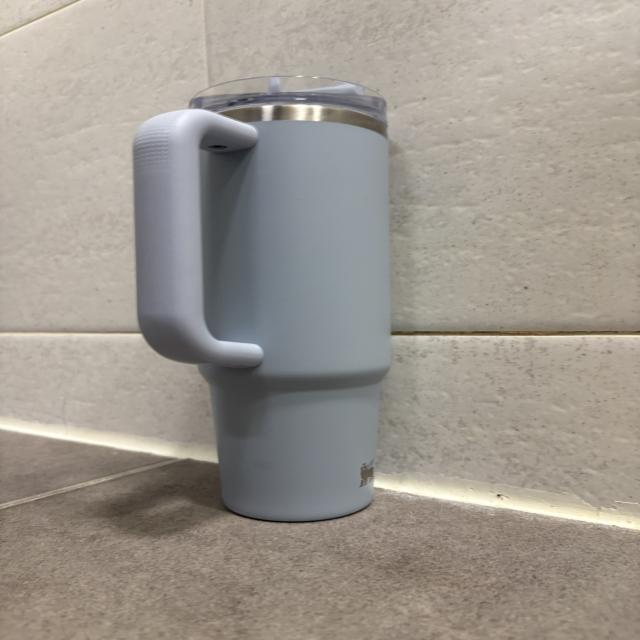waterbottle: (134, 76, 392, 525)
